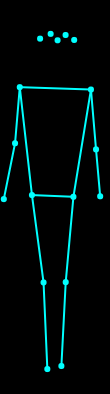mountain: (1, 28, 105, 375)
